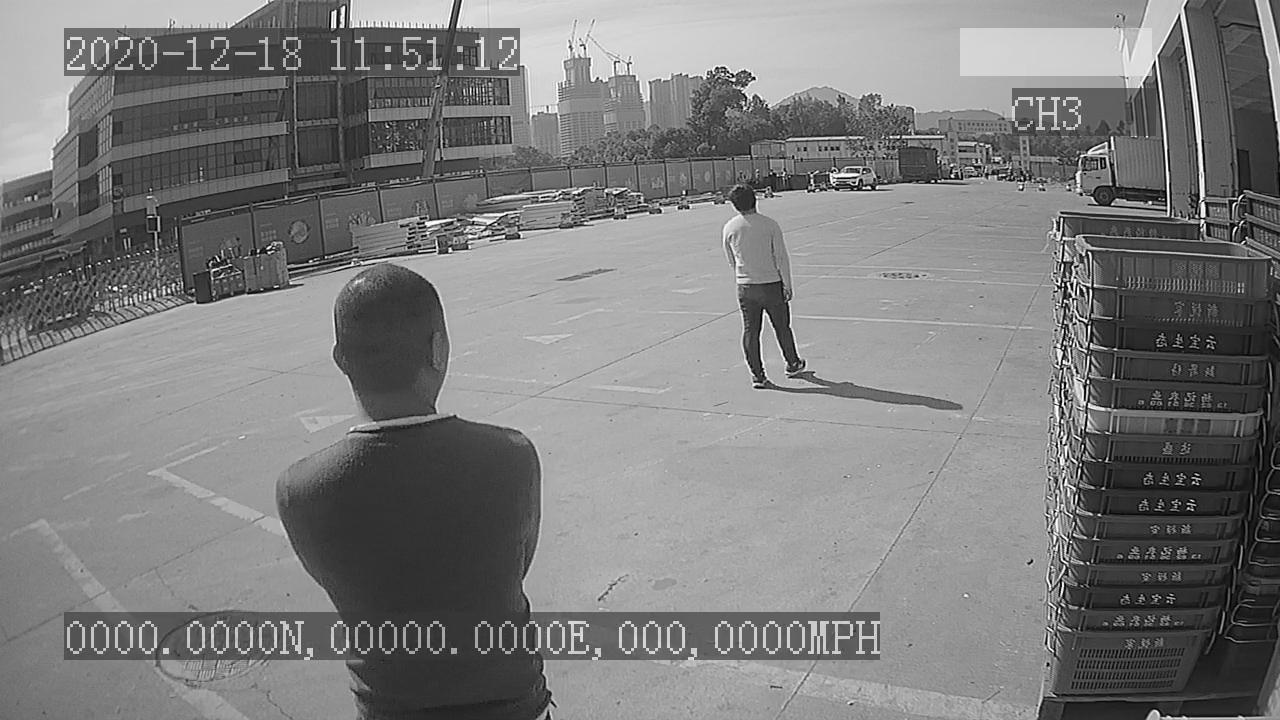person: (718, 181, 815, 392)
